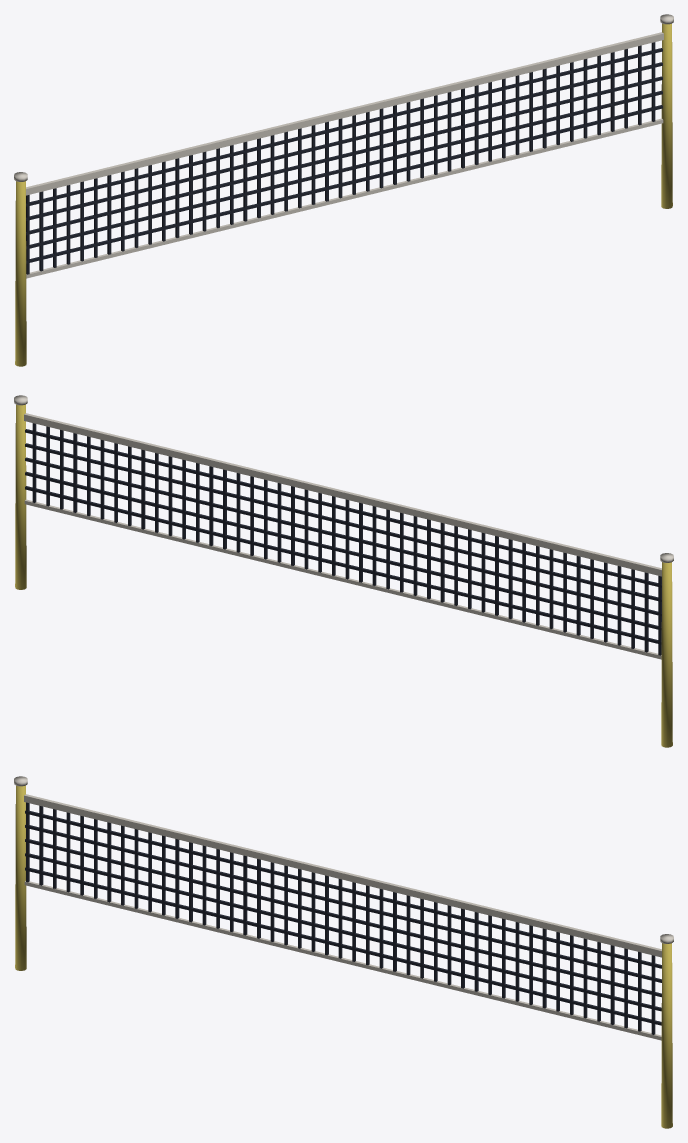
The model's file is K_VolleyNet.glb.
3 renders of one model, top to bottom at view 1: azimuth 30°, elevation 25°; view 2: azimuth 150°, elevation 25°; view 3: azimuth 330°, elevation 25°, orthographic.
Visible parts, largest first — view 1: K_VolleyNet; view 2: K_VolleyNet; view 3: K_VolleyNet.
Part boxes in pixels (x1,y1,x2,y2): K_VolleyNet: (14, 14, 673, 366); K_VolleyNet: (14, 395, 673, 747); K_VolleyNet: (14, 776, 673, 1128).
Bounding box in the file's own units: 9.67 × 2.66 × 0.18.
